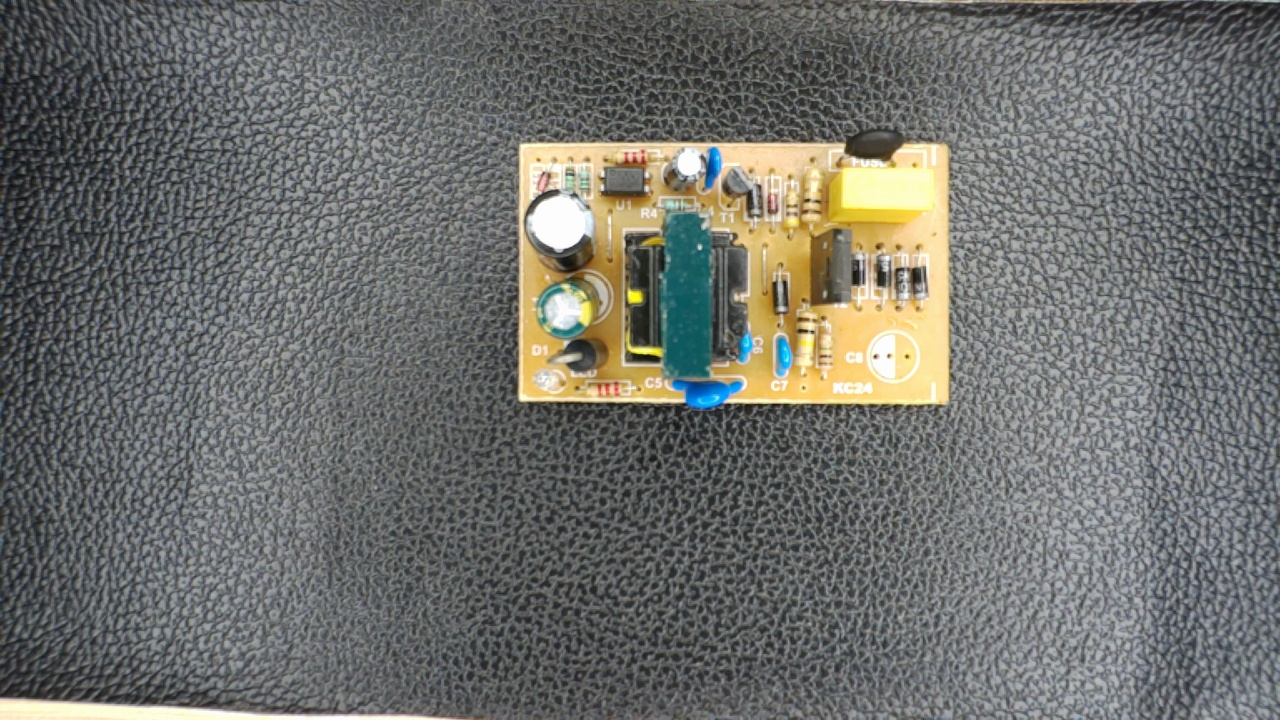fuse: (828, 128, 915, 171)
mov: (662, 375, 752, 411)
optocoupler: (594, 162, 654, 200)
